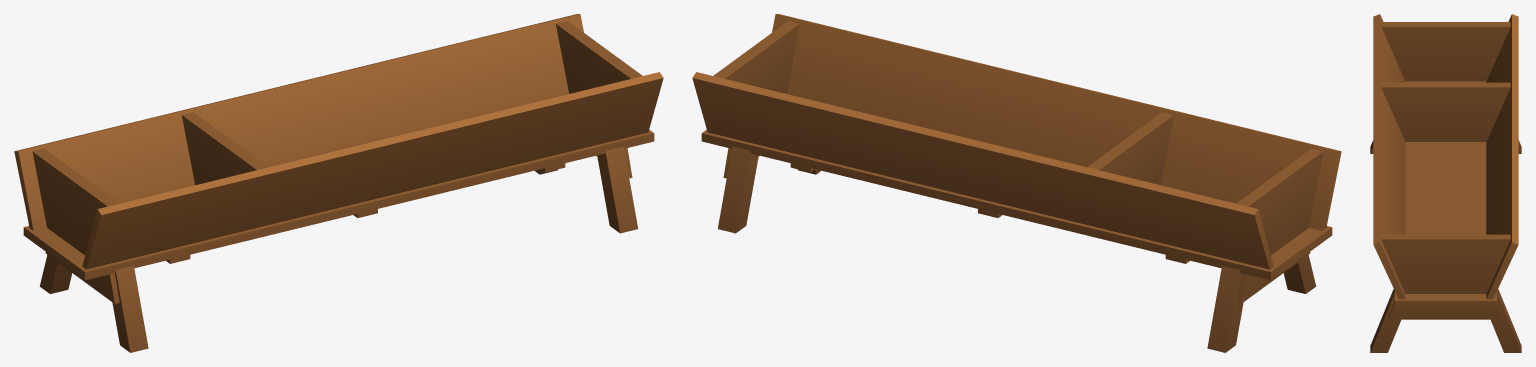
The model's file is Prop_Trough_01.obj.
3 views of the same model, side by side, from view 1: azimuth 30°, elevation 25°; view 2: azimuth 150°, elevation 25°; view 3: azimuth 270°, elevation 25° (orthographic). The views are drawn at different scales.
Parts seen in each view (by area): view 1: Prop_Trough_01; view 2: Prop_Trough_01; view 3: Prop_Trough_01.
Boxes of the visible parts, x1,y1,x2,y2 form: Prop_Trough_01: [14, 14, 663, 352]; Prop_Trough_01: [692, 14, 1341, 352]; Prop_Trough_01: [1370, 14, 1521, 352].
Size of the model in its own units: 3.11 by 0.7626 by 0.8581.
Materials: 1 (1 with a texture image).
